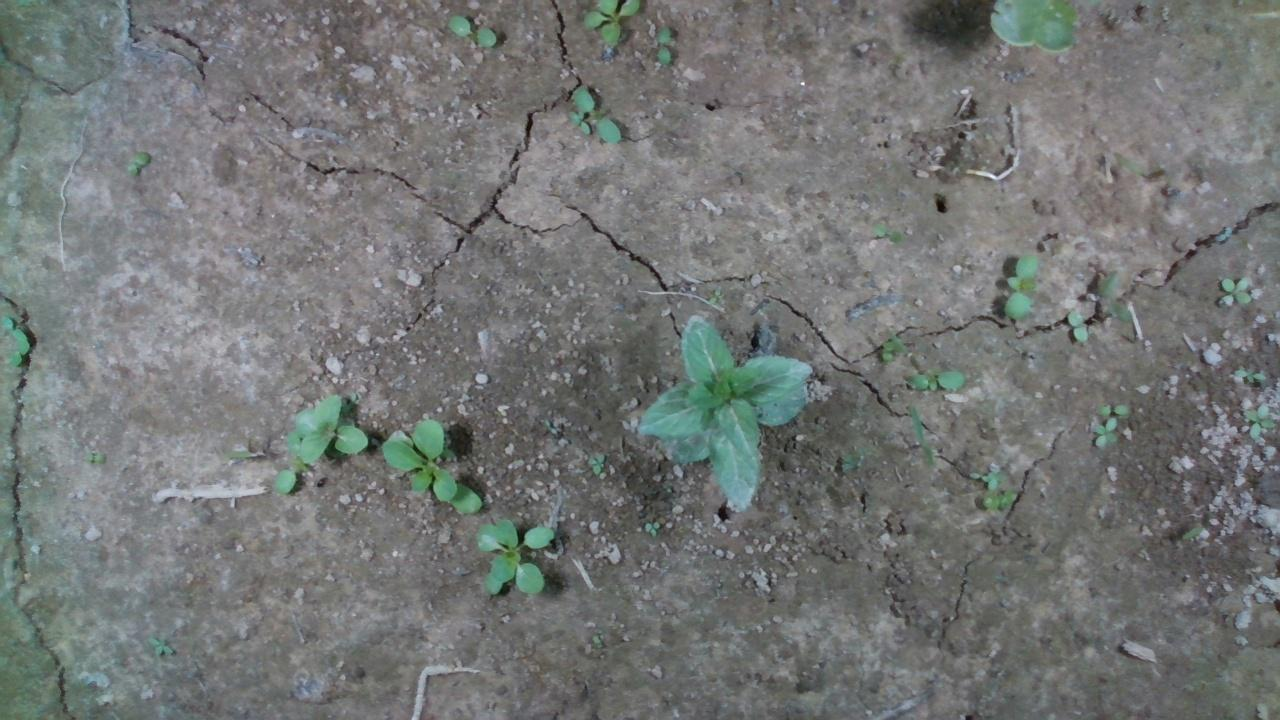weed: (572, 83, 624, 145), (1003, 253, 1040, 320), (444, 14, 498, 46), (78, 446, 128, 477), (865, 215, 907, 251), (1220, 276, 1259, 312), (646, 29, 682, 68), (902, 370, 965, 392), (1091, 415, 1120, 454), (1063, 310, 1092, 341), (880, 331, 901, 370)
